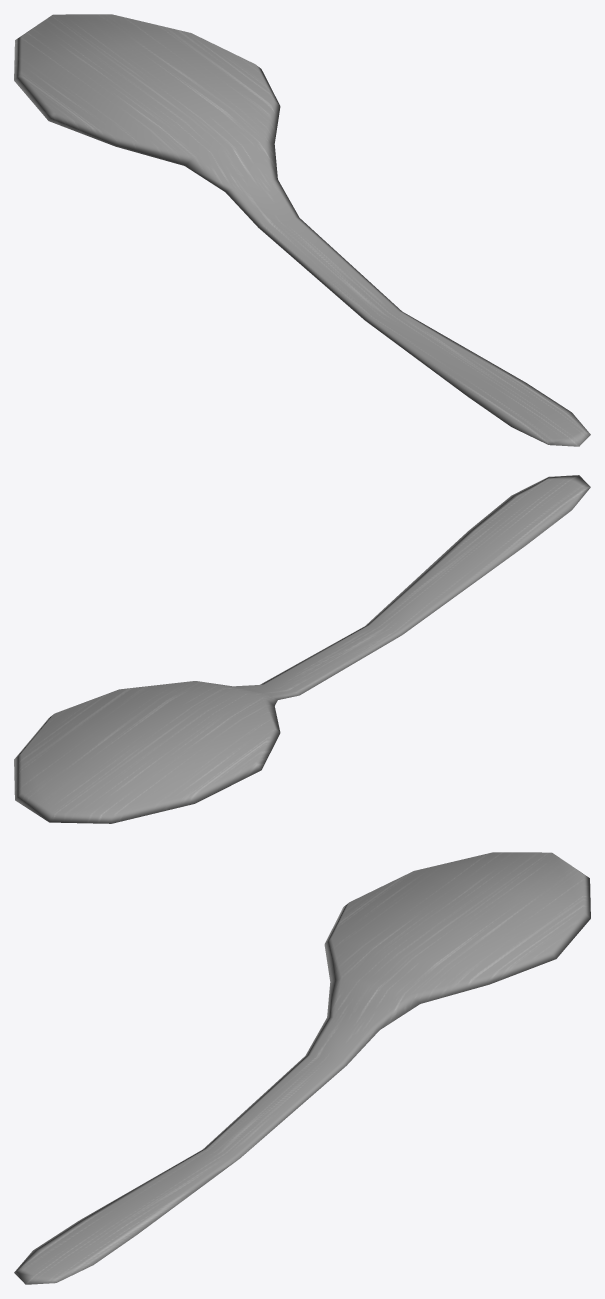
Rendered from spoon.glb.
3 renders of one model, top to bottom at view 1: azimuth 30°, elevation 25°; view 2: azimuth 150°, elevation 25°; view 3: azimuth 330°, elevation 25°, orthographic.
Visible parts, largest first — view 1: spoon; view 2: spoon; view 3: spoon.
Part boxes in pixels (left/top/right/bottom): spoon: left=14, top=14, right=590, bottom=446; spoon: left=14, top=475, right=590, bottom=823; spoon: left=14, top=852, right=590, bottom=1284.
Size of the model in its own units: 0.2037 by 0.0567 by 0.8773.
Materials: 1 (1 with a texture image).
